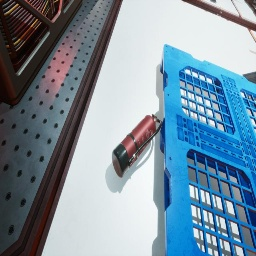FireExtinguisher ]: (112, 114, 162, 178)
